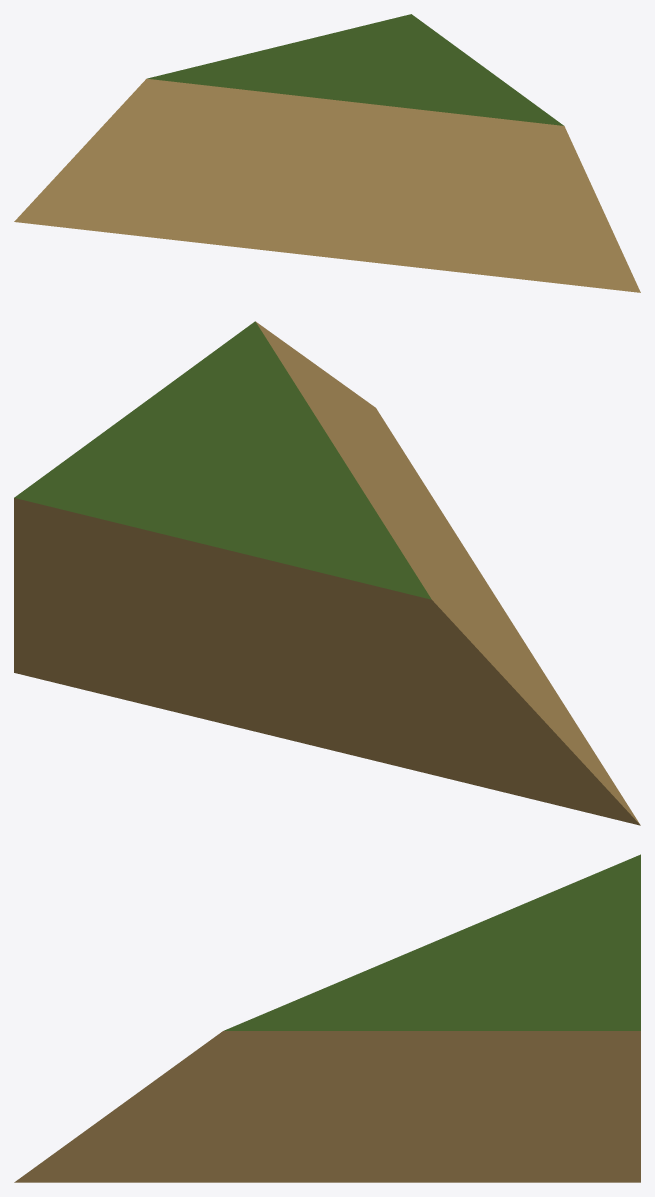
File: Terrain_Modular_Tiles_Grass_Dirt_Cliff_Edge_Corner_Inner_01.fbx
3 renders of one model, top to bottom at view 1: azimuth 30°, elevation 25°; view 2: azimuth 150°, elevation 25°; view 3: azimuth 270°, elevation 25°, orthographic. The views are drawn at different scales.
Visible parts, largest first — view 1: Terrain_Modular_Tiles_Grass_Dirt_Cliff_Edge_Corner_Inner_01; view 2: Terrain_Modular_Tiles_Grass_Dirt_Cliff_Edge_Corner_Inner_01; view 3: Terrain_Modular_Tiles_Grass_Dirt_Cliff_Edge_Corner_Inner_01.
Part boxes in pixels (x1,y1,x2,y2): Terrain_Modular_Tiles_Grass_Dirt_Cliff_Edge_Corner_Inner_01: (14, 14, 640, 292); Terrain_Modular_Tiles_Grass_Dirt_Cliff_Edge_Corner_Inner_01: (14, 321, 640, 825); Terrain_Modular_Tiles_Grass_Dirt_Cliff_Edge_Corner_Inner_01: (14, 854, 640, 1182).
Bounding box in the file's own units: 1125 × 300 × 1125.
